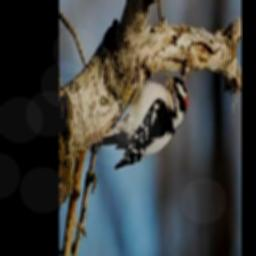Woodpecker: (96, 68, 187, 169)
